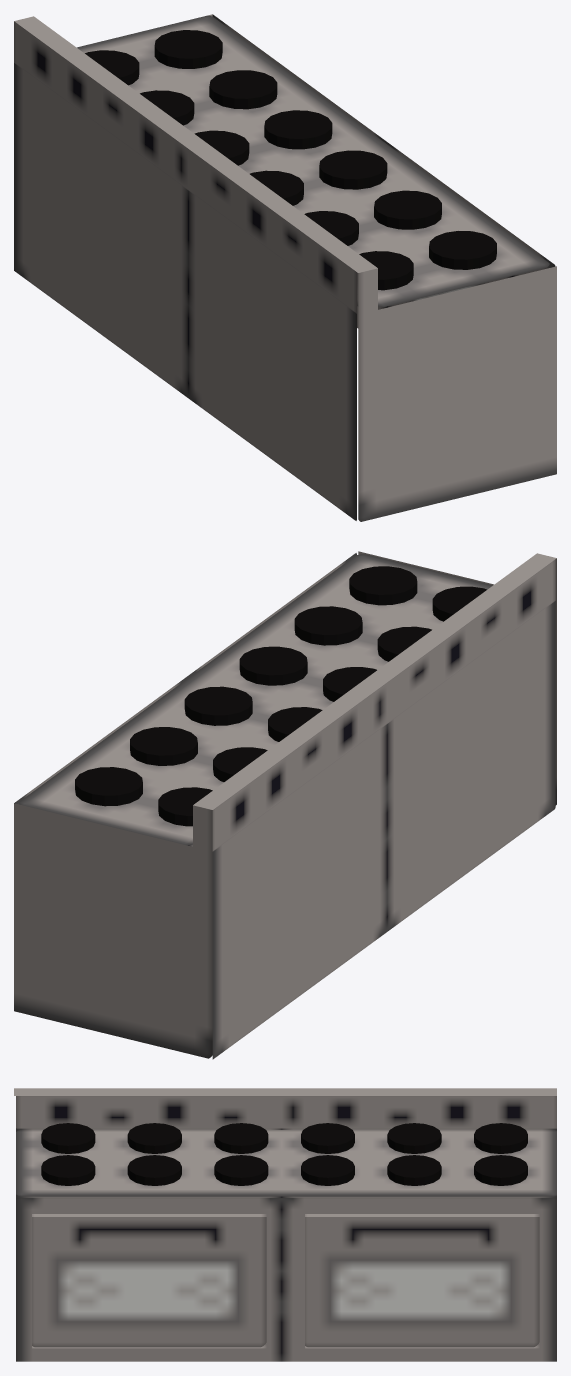
File: Stove_TipoA.fbx
3 views of the same model, one above another, from view 1: azimuth 30°, elevation 25°; view 2: azimuth 150°, elevation 25°; view 3: azimuth 270°, elevation 25° (orthographic). The views are drawn at different scales.
Visible parts, largest first — view 1: Cube.053, Cylinder.002; view 2: Cube.053, Cylinder.002; view 3: Cube.053, Cube.054, Cylinder.002.
Boxes of the visible parts, x1,y1,x2,y2 form: Cube.053: (14, 14, 556, 521); Cylinder.002: (85, 30, 496, 290); Cube.053: (14, 551, 556, 1059); Cylinder.002: (75, 566, 486, 826); Cube.053: (14, 1088, 556, 1361); Cube.054: (32, 1214, 539, 1348); Cylinder.002: (41, 1123, 527, 1185).
Size of the model in its own units: 104 by 120 by 300.
